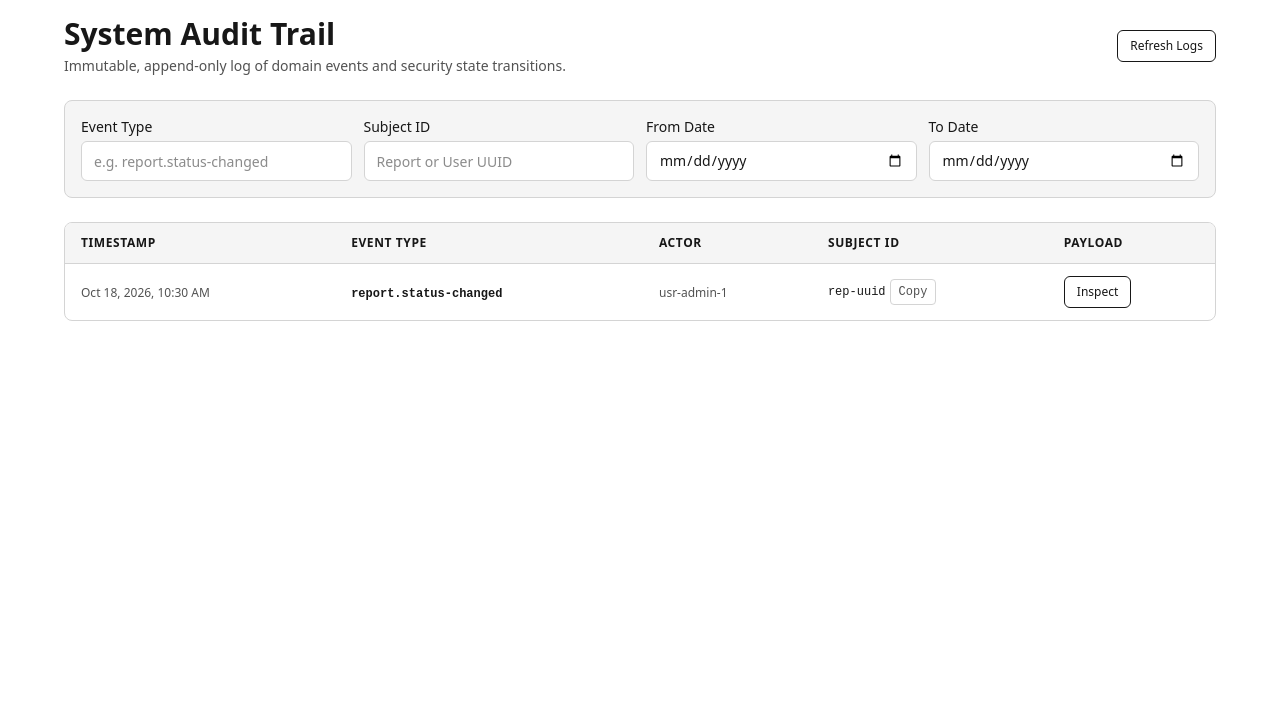
it: Administrator Views and Role Guards › AdminAuditPage › renders audit logs and inspects JSON payload
Expected: the number of headings is 1, [64,13,335,54]
Expected: the heading reads "System Audit Trail", [64,13,335,54]
Click the button "Inspect" at (1098, 292), box [1064,276,1131,308]
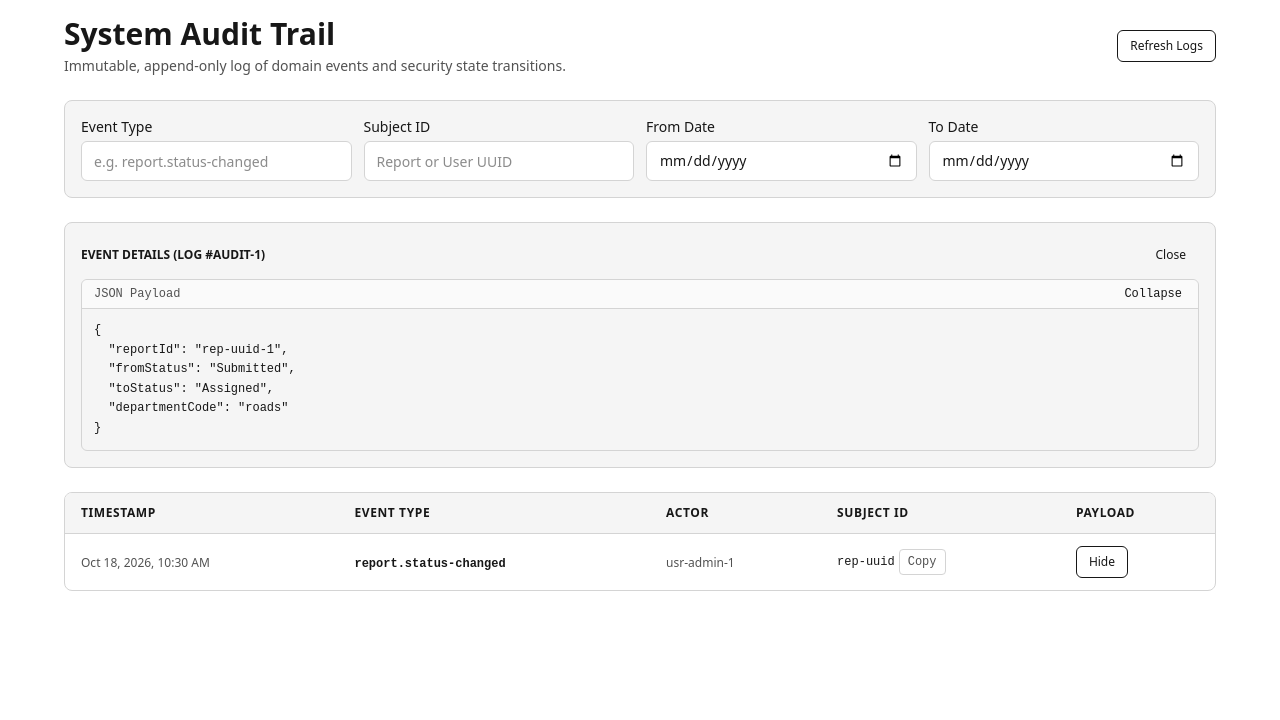
Result: the text "Event Details (Log #audit-1)" is shown at [81,247,265,263]
Result: the text "\"departmentCode\": \"roads\"" is shown at [94,323,296,434]
